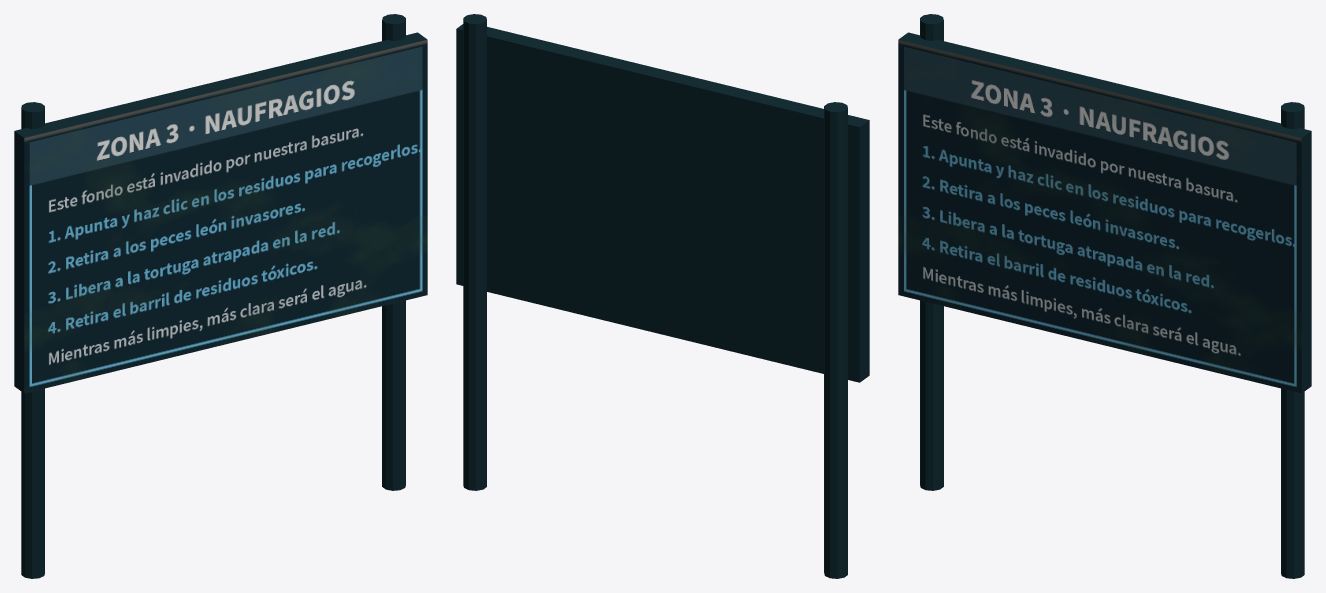
The model's file is letrero_bienvenida.fbx.
3 renders of one model, left to right at view 1: azimuth 30°, elevation 25°; view 2: azimuth 150°, elevation 25°; view 3: azimuth 330°, elevation 25°, orthographic.
Visible parts, largest first — view 1: letrero_bienvenida; view 2: letrero_bienvenida; view 3: letrero_bienvenida.
Part boxes in pixels (x1,y1,x2,y2): letrero_bienvenida: (14, 14, 427, 578); letrero_bienvenida: (456, 14, 869, 578); letrero_bienvenida: (898, 14, 1311, 578).
Bounding box in the file's own units: 1.9 × 2.1 × 0.15.
1 material, 1 textured.
